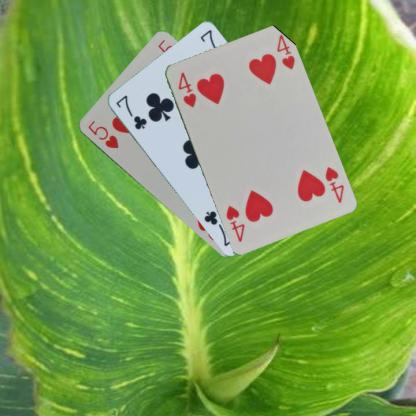4h: (322, 163, 345, 204), (175, 70, 197, 110)
5h: (85, 118, 120, 150)
7c: (113, 93, 148, 131)
